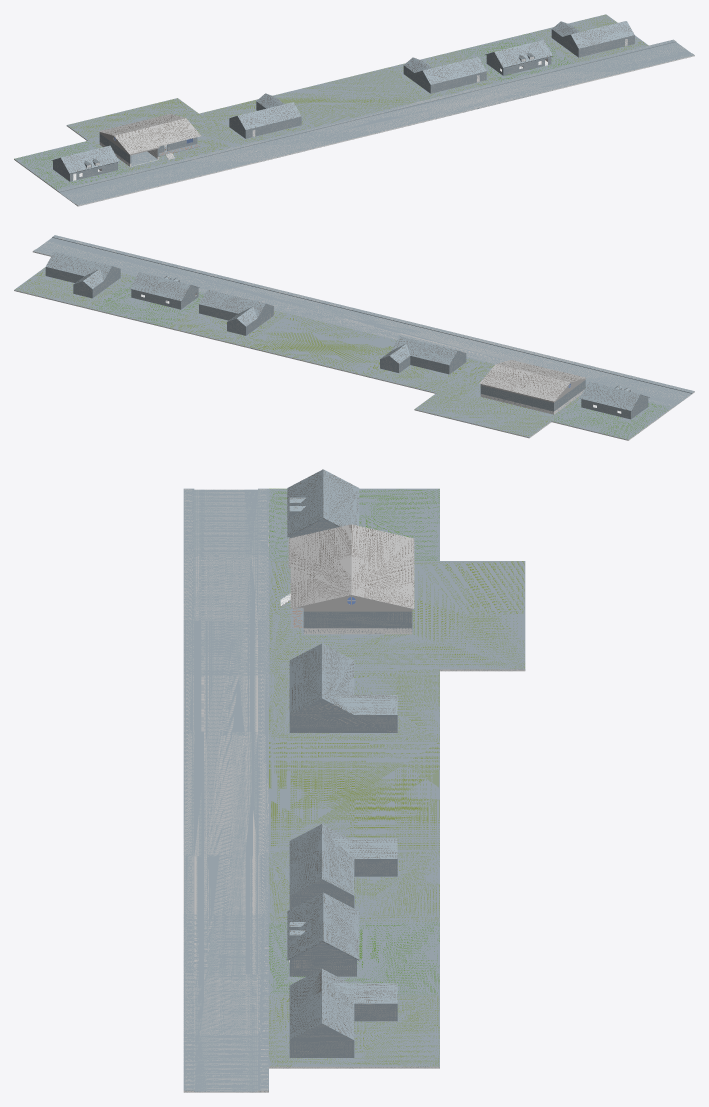
3 renders of one model, top to bottom at view 1: azimuth 30°, elevation 25°; view 2: azimuth 150°, elevation 25°; view 3: azimuth 270°, elevation 25°, orthographic. The views are drawn at different scales.
Parts seen in each view (by area): view 1: Mesh12 Model, Mesh3 foundation1 Group1 house_2_1 Model, Mesh1 Stormrunner_house1 Model, Mesh8 basic_house2 Model, Mesh7 basic_house1 Model, Mesh11 basic_house3 Model, Mesh9 Stormrunner_house2 Model, Mesh5 Gable_Roof1 Group1 house_2_1 Model, Mesh4 G_1st_Floor1 Group1 house_2_1 Model; view 2: Mesh12 Model, Mesh3 foundation1 Group1 house_2_1 Model, Mesh1 Stormrunner_house1 Model, Mesh7 basic_house1 Model, Mesh8 basic_house2 Model, Mesh11 basic_house3 Model, Mesh9 Stormrunner_house2 Model, Mesh5 Gable_Roof1 Group1 house_2_1 Model, Mesh4 G_1st_Floor1 Group1 house_2_1 Model; view 3: Mesh12 Model, Mesh3 foundation1 Group1 house_2_1 Model, Mesh11 basic_house3 Model, Mesh7 basic_house1 Model, Mesh8 basic_house2 Model, Mesh9 Stormrunner_house2 Model, Mesh5 Gable_Roof1 Group1 house_2_1 Model, Mesh1 Stormrunner_house1 Model, Mesh4 G_1st_Floor1 Group1 house_2_1 Model.
Part boxes in pixels (bbox=[...]): Mesh12 Model: bbox=[56, 39, 694, 206]; Mesh3 foundation1 Group1 house_2_1 Model: bbox=[66, 98, 241, 171]; Mesh1 Stormrunner_house1 Model: bbox=[14, 141, 130, 190]; Mesh8 basic_house2 Model: bbox=[384, 50, 500, 99]; Mesh7 basic_house1 Model: bbox=[199, 93, 315, 144]; Mesh11 basic_house3 Model: bbox=[532, 14, 648, 63]; Mesh9 Stormrunner_house2 Model: bbox=[458, 32, 574, 81]; Mesh5 Gable_Roof1 Group1 house_2_1 Model: bbox=[98, 114, 200, 155]; Mesh4 G_1st_Floor1 Group1 house_2_1 Model: bbox=[99, 133, 200, 163]; Mesh12 Model: bbox=[32, 235, 694, 407]; Mesh3 foundation1 Group1 house_2_1 Model: bbox=[414, 360, 586, 438]; Mesh1 Stormrunner_house1 Model: bbox=[551, 382, 672, 440]; Mesh7 basic_house1 Model: bbox=[359, 336, 480, 393]; Mesh8 basic_house2 Model: bbox=[167, 289, 288, 346]; Mesh11 basic_house3 Model: bbox=[14, 252, 134, 309]; Mesh9 Stormrunner_house2 Model: bbox=[90, 272, 204, 328]; Mesh5 Gable_Roof1 Group1 house_2_1 Model: bbox=[479, 360, 586, 402]; Mesh4 G_1st_Floor1 Group1 house_2_1 Model: bbox=[480, 380, 585, 411]; Mesh12 Model: bbox=[183, 488, 439, 1092]; Mesh3 foundation1 Group1 house_2_1 Model: bbox=[269, 561, 525, 671]; Mesh11 basic_house3 Model: bbox=[269, 968, 439, 1068]; Mesh7 basic_house1 Model: bbox=[269, 643, 439, 741]; Mesh8 basic_house2 Model: bbox=[269, 824, 439, 922]; Mesh9 Stormrunner_house2 Model: bbox=[269, 892, 439, 994]; Mesh5 Gable_Roof1 Group1 house_2_1 Model: bbox=[288, 524, 414, 611]; Mesh1 Stormrunner_house1 Model: bbox=[269, 469, 439, 560]; Mesh4 G_1st_Floor1 Group1 house_2_1 Model: bbox=[290, 607, 412, 628].
Size of the model in its own units: 200 by 6.55 by 48.
